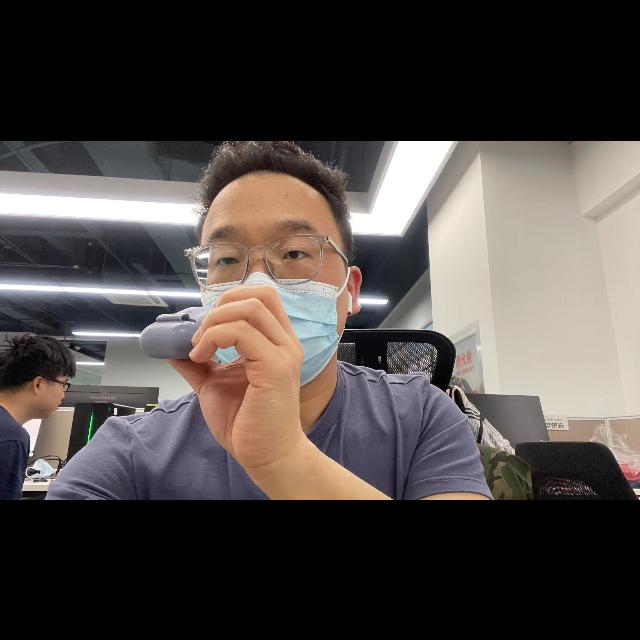airpods: (139, 305, 214, 359)
